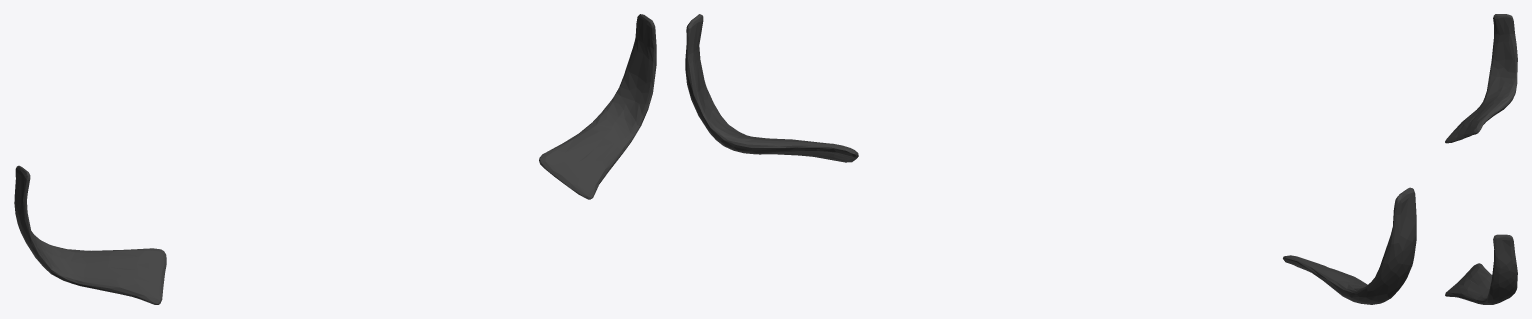
Rendered from m_scutuloauricularis.glb.
3 renders of one model, left to right at view 1: azimuth 30°, elevation 25°; view 2: azimuth 150°, elevation 25°; view 3: azimuth 270°, elevation 25°, orthographic. The views are drawn at different scales.
Parts seen in each view (by area): view 1: m_scutuloauricularis; view 2: m_scutuloauricularis; view 3: m_scutuloauricularis.
Boxes of the visible parts, <box> form: m_scutuloauricularis: <box>14,14,656,304</box>; m_scutuloauricularis: <box>685,14,1416,304</box>; m_scutuloauricularis: <box>1445,14,1517,304</box>.
Size of the model in its own units: 0.00134 by 0.000265 by 0.000184.
Materials: 1 (1 with a texture image).
